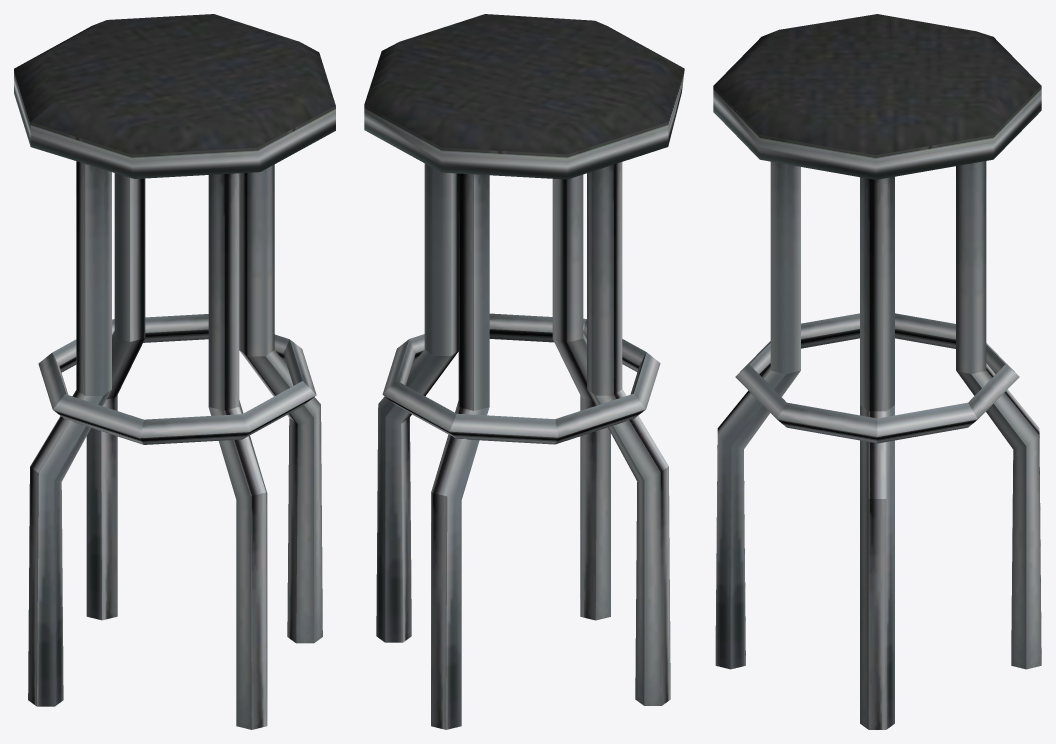
Rendered from barstool_club.fbx.
3 views of the same model, side by side, from view 1: azimuth 30°, elevation 25°; view 2: azimuth 150°, elevation 25°; view 3: azimuth 270°, elevation 25° (orthographic).
Parts seen in each view (by area): view 1: mesh_0; view 2: mesh_0; view 3: mesh_0.
Boxes of the visible parts, bbox=[...] form: mesh_0: bbox=[14, 14, 335, 729]; mesh_0: bbox=[364, 14, 684, 729]; mesh_0: bbox=[713, 14, 1041, 729].
Bounding box in the file's own units: 40 × 79.22 × 40.
1 material, 1 textured.
